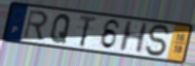6: (98, 18, 121, 51)
H: (117, 19, 151, 54)
Q: (49, 13, 73, 45)
R: (21, 9, 49, 42)
S: (144, 24, 173, 59)
T: (78, 14, 99, 48)
